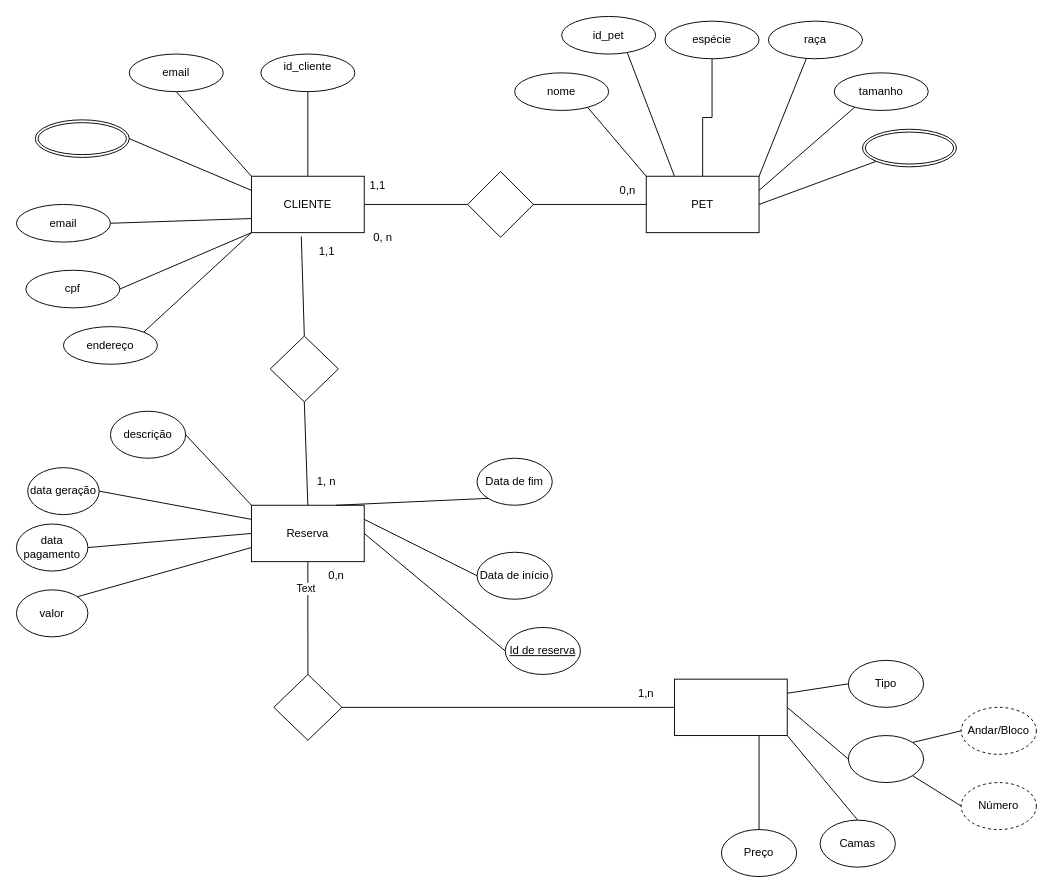
Some shapes in this 1053 by 893 pixel diagram are drawn without their labels. The shapes that lost their labels are listed below. From the top down, each one's centre as x and y in pixels, then its label:
point (81, 138): Telefone
point (909, 147): Necessidades especiais
point (500, 204): Possui
point (303, 368): Faz
point (307, 707): Assegura
point (730, 707): ACOMODAÇÃO
point (885, 759): Id do quarto
